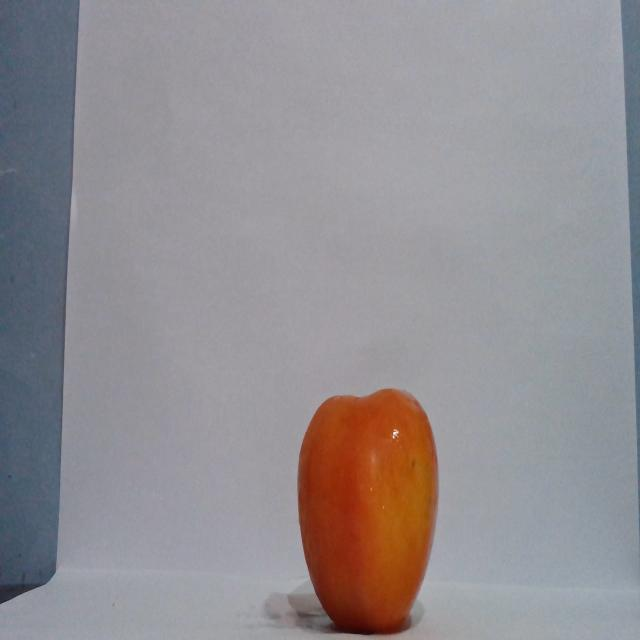Red: (295, 386, 439, 633)
